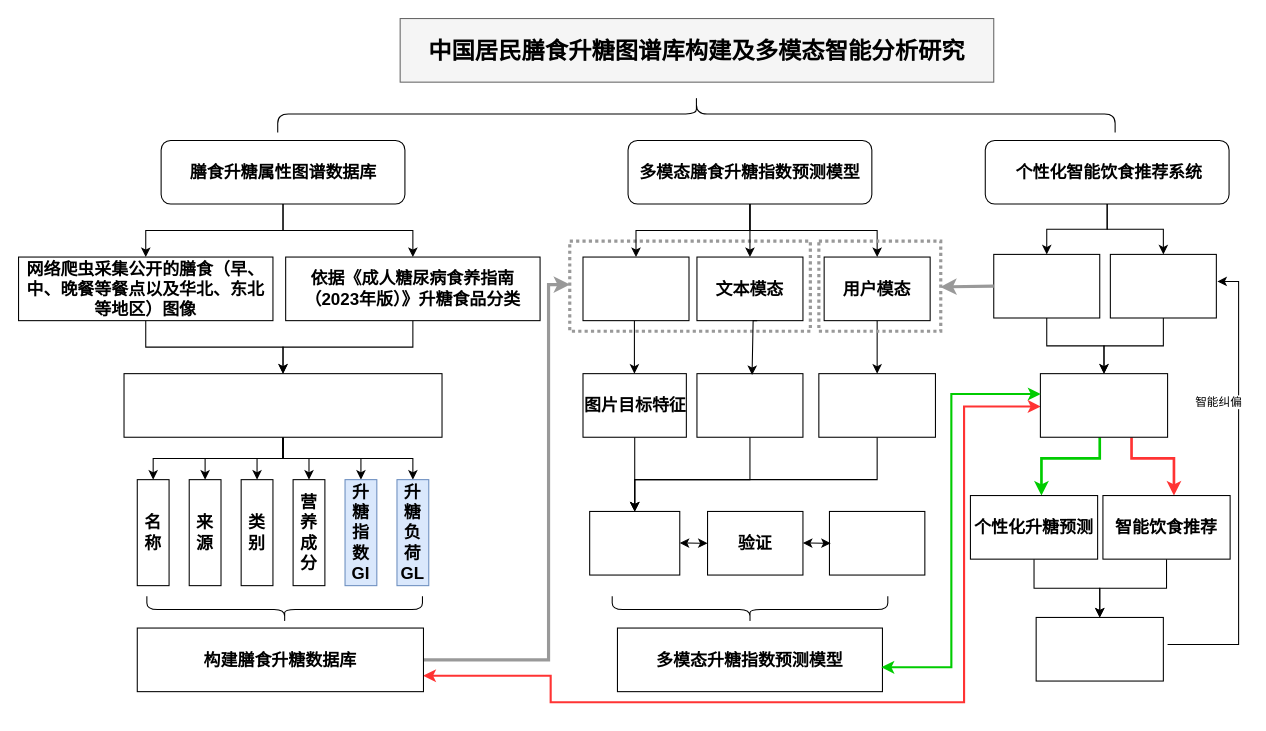
The diagram is 1266 pixels wide and 731 high, and some of its shapes have lost their labels. Each missing label, with the centre of its shape:
"Label Studio 标注膳食图片中的升糖食品" goes at (x=282, y=405).
"前端交互反馈结果个性化结果" goes at (x=1099, y=648).
"前端交互获取膳食图片" goes at (x=1046, y=285).
"后端API" goes at (x=1103, y=405).
"测试" goes at (x=876, y=542).
"用户画像（身高、年龄、健康等）" goes at (x=1162, y=285).
"编码转化" goes at (x=876, y=405).
"自然语言处理" goes at (x=749, y=405).
"视觉模态" goes at (x=635, y=288).
"训练" goes at (x=634, y=542).
